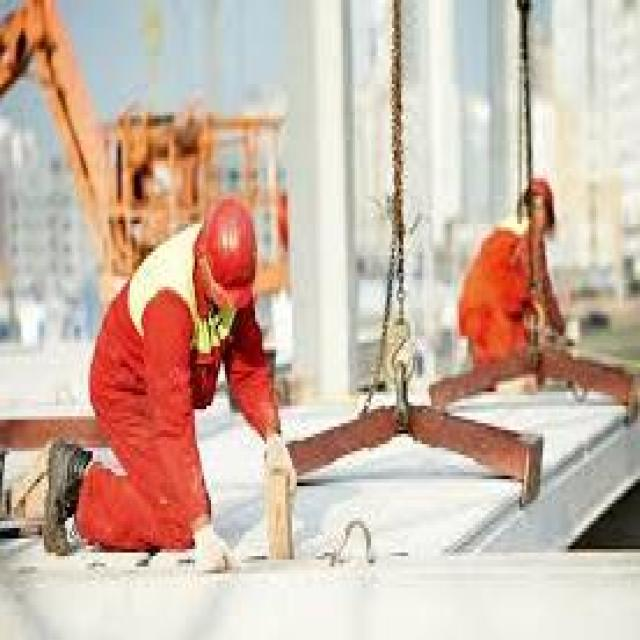Reflective-Jacket: (74, 224, 218, 496), (445, 220, 554, 371), (190, 185, 276, 332)
Safety-Helmet: (190, 189, 271, 322), (512, 161, 564, 238)
